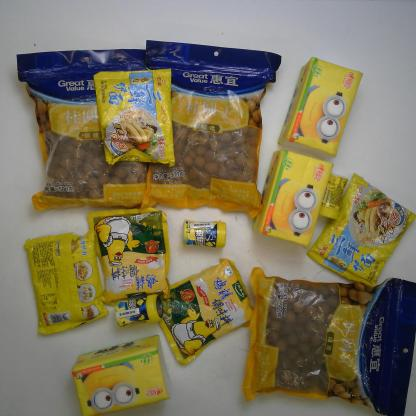Dried Food: (137, 38, 284, 220), (240, 265, 416, 415), (14, 45, 148, 214)
Gum: (113, 293, 164, 329), (319, 172, 350, 221), (181, 218, 228, 249)
Instant Noodles: (305, 172, 416, 289), (23, 222, 110, 336), (93, 67, 178, 168)
Seasoner: (158, 257, 254, 366), (87, 206, 172, 307)
Tissue: (278, 54, 364, 159), (251, 146, 336, 247), (71, 334, 173, 416)
